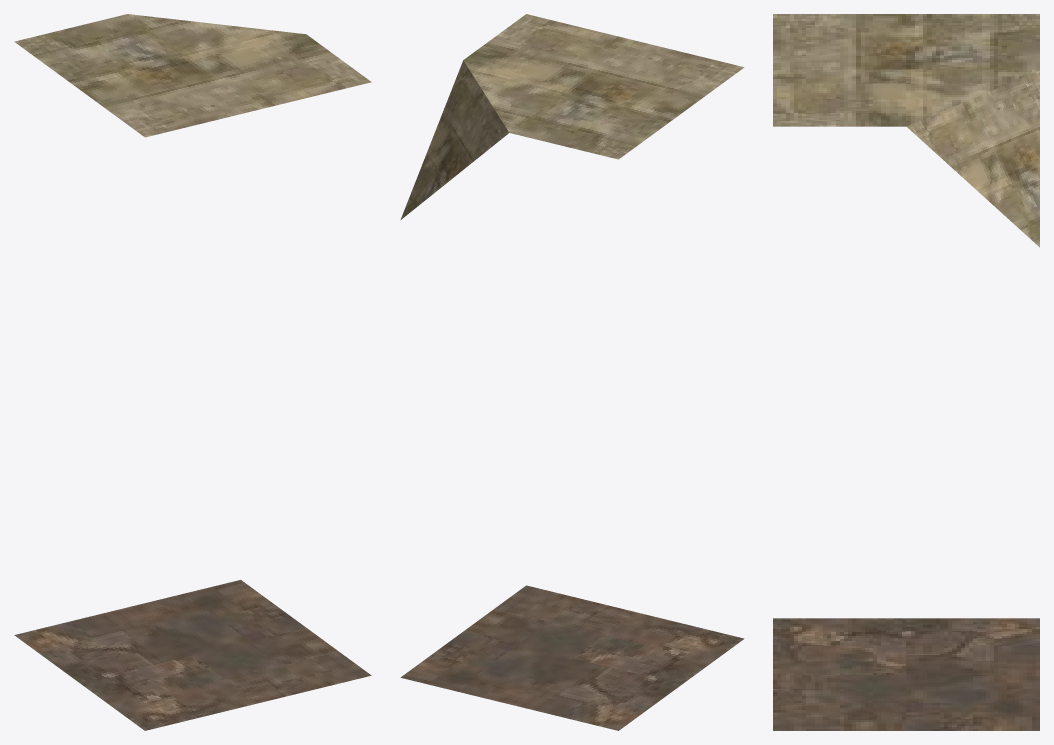
Rendered from corner-out.glb.
3 views of the same model, side by side, from view 1: azimuth 30°, elevation 25°; view 2: azimuth 150°, elevation 25°; view 3: azimuth 270°, elevation 25° (orthographic). The views are drawn at different scales.
Visible parts, largest first — view 1: corner-out-col; view 2: corner-out-col; view 3: corner-out-col.
Part boxes in pixels (bbox=[...]): corner-out-col: bbox=[14, 14, 371, 730]; corner-out-col: bbox=[400, 14, 744, 730]; corner-out-col: bbox=[773, 14, 1039, 730].
Size of the model in its own units: 1 by 2.5 by 1.
1 material, 1 textured.
